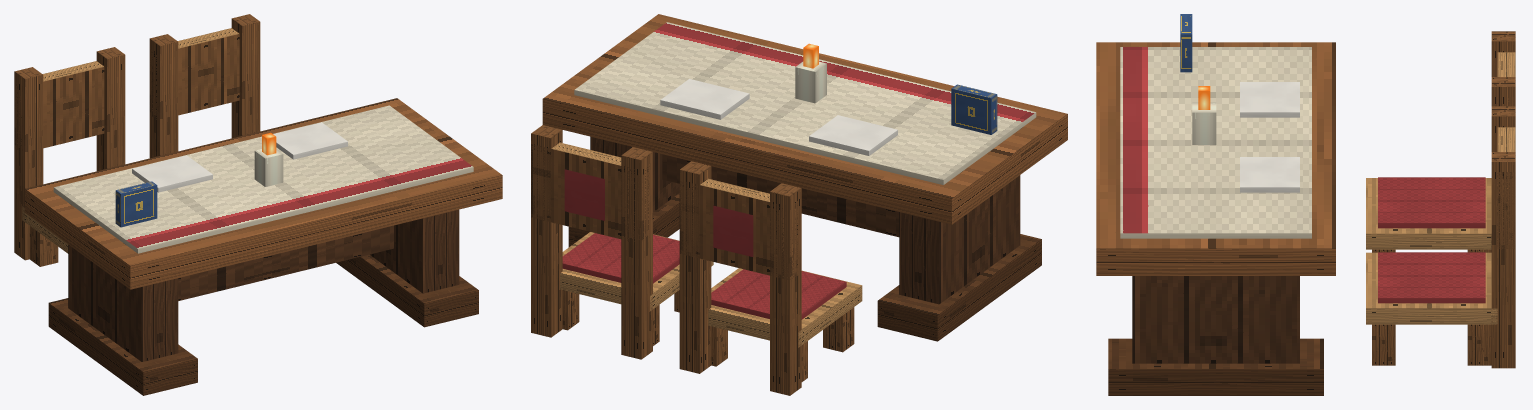
The model's file is table_group_2.glb.
3 views of the same model, side by side, from view 1: azimuth 30°, elevation 25°; view 2: azimuth 150°, elevation 25°; view 3: azimuth 270°, elevation 25° (orthographic). The views are drawn at different scales.
Visible parts, largest first — view 1: root; view 2: root; view 3: root.
Part boxes in pixels (<box>): root: <box>14,14,502,395</box>; root: <box>531,14,1067,395</box>; root: <box>1096,14,1515,395</box>.
Size of the model in its own units: 110 by 53.33 by 95.18.
2 materials, 2 textured.
